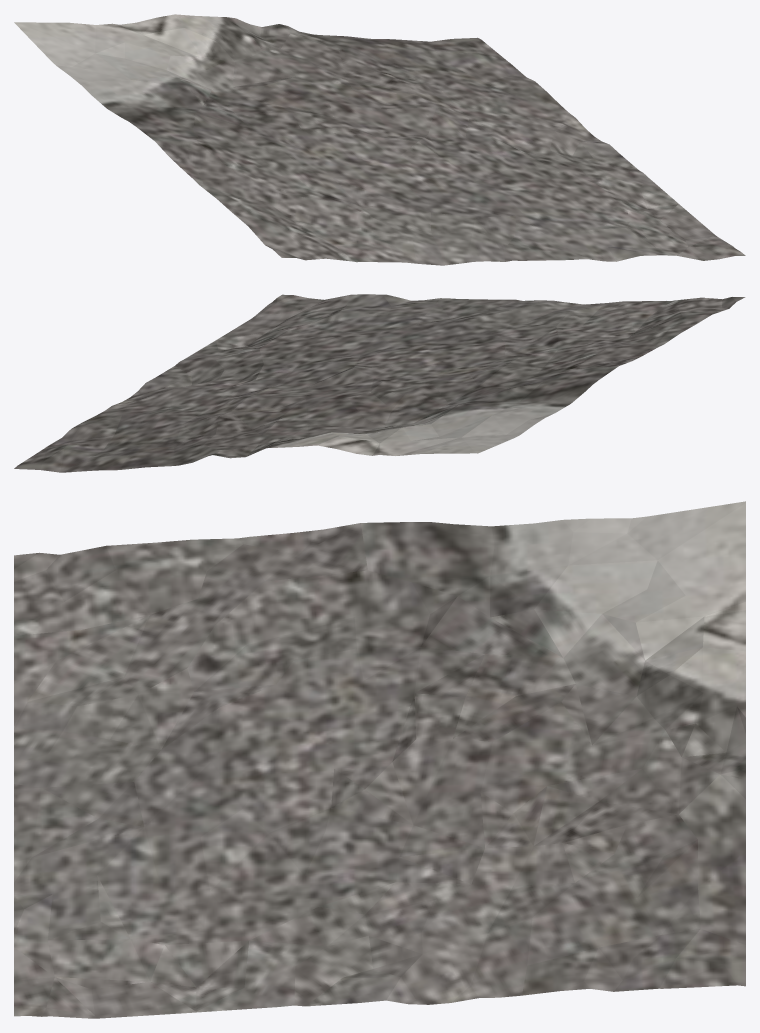
3 views of the same model, one above another, from view 1: azimuth 30°, elevation 25°; view 2: azimuth 150°, elevation 25°; view 3: azimuth 270°, elevation 25° (orthographic). The views are drawn at different scales.
Bounding box in the file's own units: 0.8374 × 0.2625 × 0.8374.
3 materials, 3 textured.
